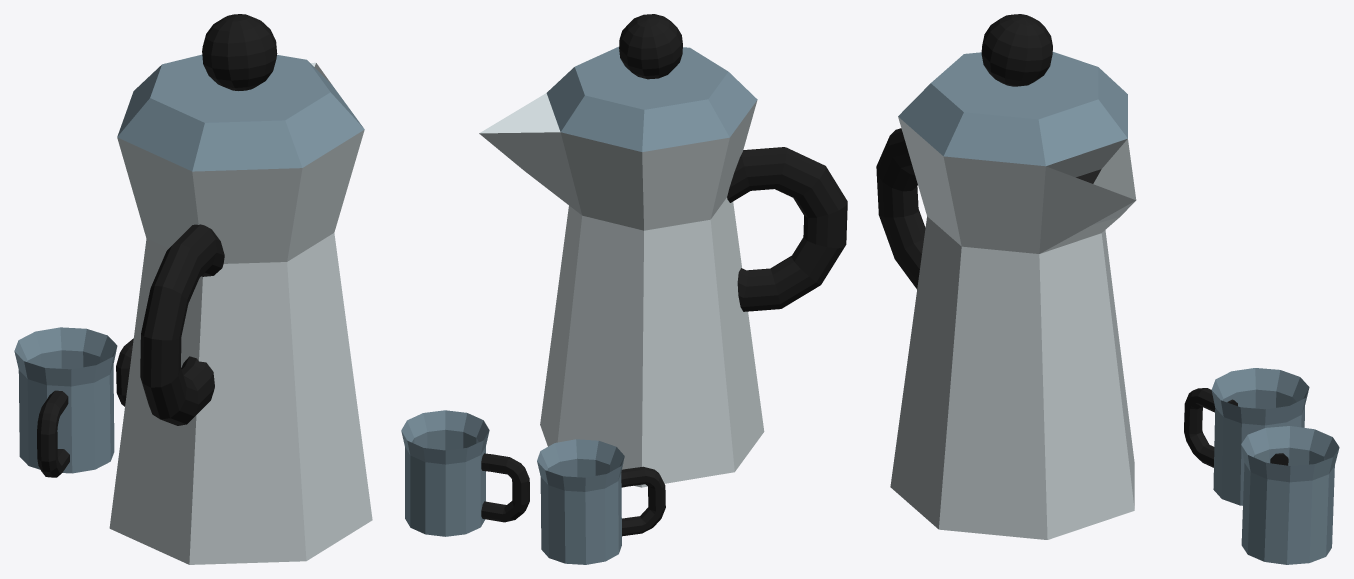
The model's file is drink.glb.
3 renders of one model, left to right at view 1: azimuth 30°, elevation 25°; view 2: azimuth 150°, elevation 25°; view 3: azimuth 270°, elevation 25°, orthographic. The views are drawn at different scales.
Parts seen in each view (by area): view 1: group702358115, group643462437, group1967301379, group2133444431, group88064880, group1201759742; view 2: group702358115, group1967301379, group643462437, group348880893, group2133444431, group1201759742, group88064880; view 3: group702358115, group348880893, group643462437, group1967301379, group2133444431, group88064880.
Part boxes in pixels (box(x1,y1,x2,y2)): group702358115: box(109, 54, 372, 564); group643462437: box(14, 327, 117, 473); group1967301379: box(140, 224, 224, 425); group2133444431: box(202, 14, 277, 90); group88064880: box(37, 390, 69, 477); group1201759742: box(116, 338, 133, 406); group702358115: box(479, 46, 764, 487); group1967301379: box(727, 147, 847, 311); group643462437: box(537, 439, 624, 564); group348880893: box(401, 410, 489, 536); group2133444431: box(619, 14, 682, 79); group1201759742: box(481, 453, 529, 522); group88064880: box(621, 466, 665, 536); group702358115: box(890, 52, 1136, 539); group348880893: box(1241, 426, 1339, 564); group643462437: box(1211, 368, 1309, 505); group1967301379: box(876, 128, 925, 289); group2133444431: box(981, 14, 1052, 86); group88064880: box(1184, 388, 1237, 467).
Size of the model in its own units: 0.091 by 0.148 by 0.1261.
